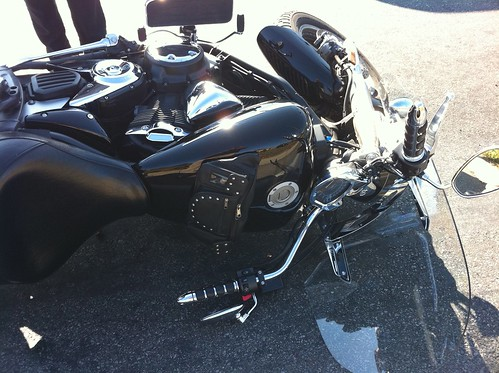motorcycle: (1, 1, 420, 294)
